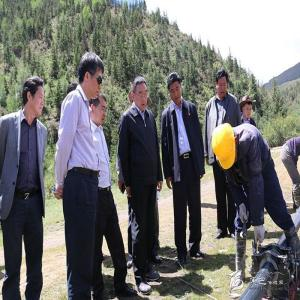none: (78, 52, 104, 100), (22, 77, 47, 119), (166, 72, 186, 106), (132, 77, 150, 111), (90, 94, 109, 126), (215, 71, 229, 99), (242, 96, 255, 119)
yellow: (213, 123, 240, 171)
